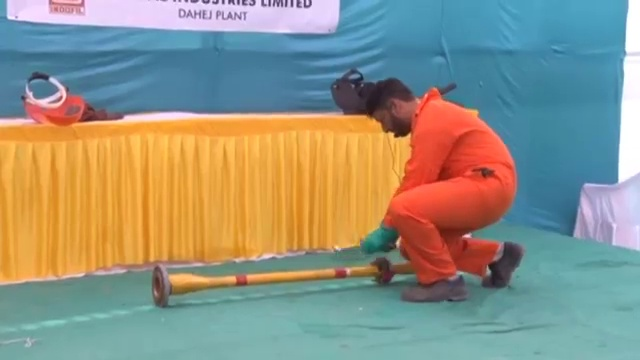helmet_off: (367, 76, 415, 138)
person: (356, 69, 529, 309)
